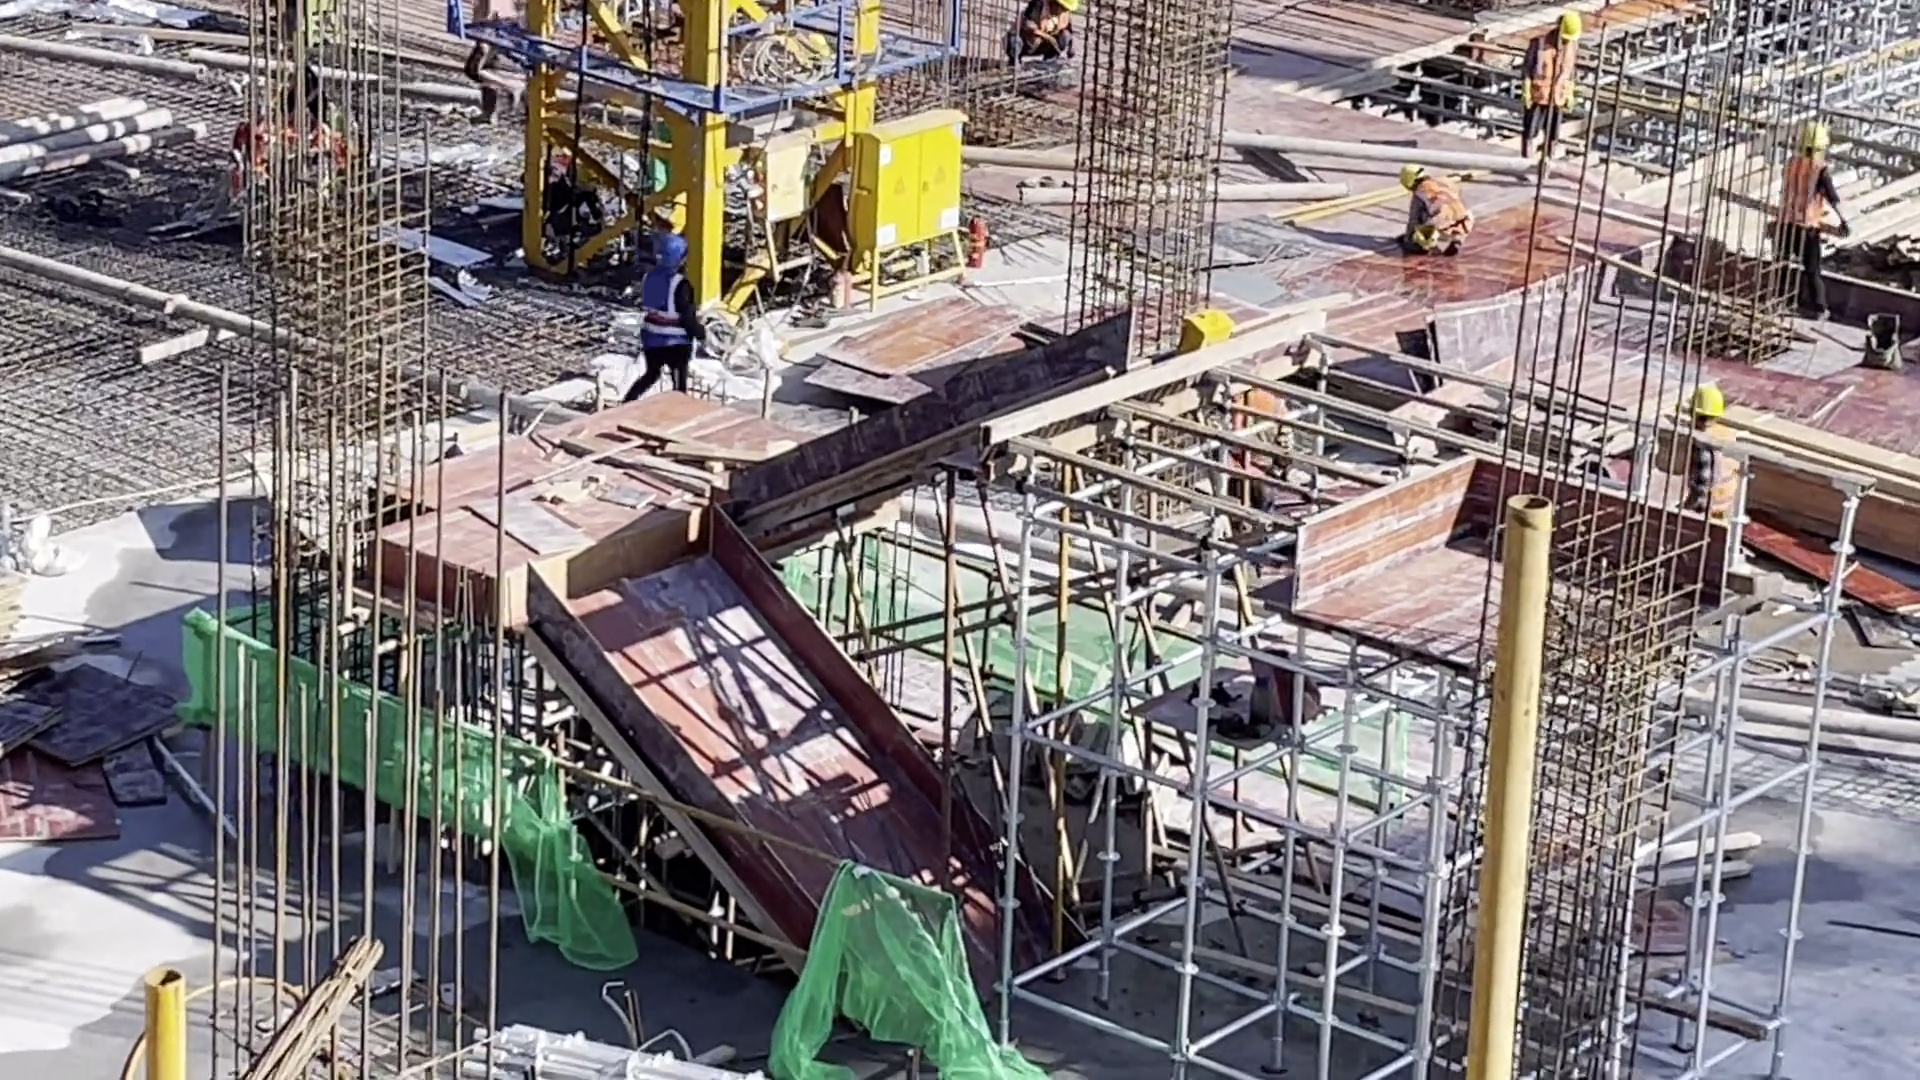helmet: (1792, 120, 1835, 154), (1680, 381, 1723, 415), (1547, 10, 1586, 47), (642, 233, 690, 262), (1397, 155, 1430, 191)
person: (1774, 117, 1844, 329), (626, 231, 703, 411), (1669, 380, 1743, 552), (1219, 379, 1292, 522), (1519, 5, 1589, 153), (453, 1, 525, 125), (1394, 157, 1470, 256), (1007, 4, 1085, 61)
vest: (635, 275, 699, 365), (1683, 419, 1737, 521), (1772, 151, 1833, 239), (1522, 42, 1580, 124), (1417, 176, 1466, 243)
